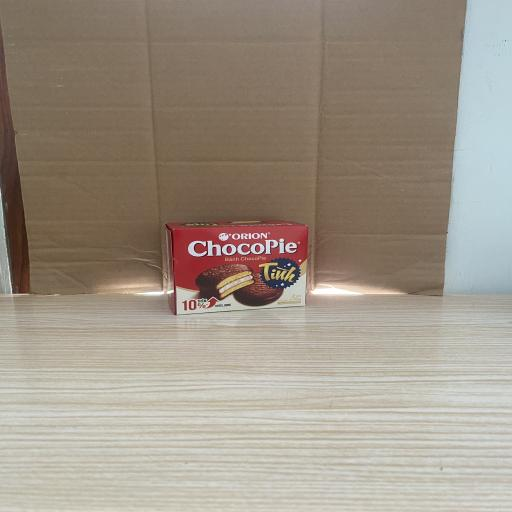chocopie: (166, 220, 308, 316)
